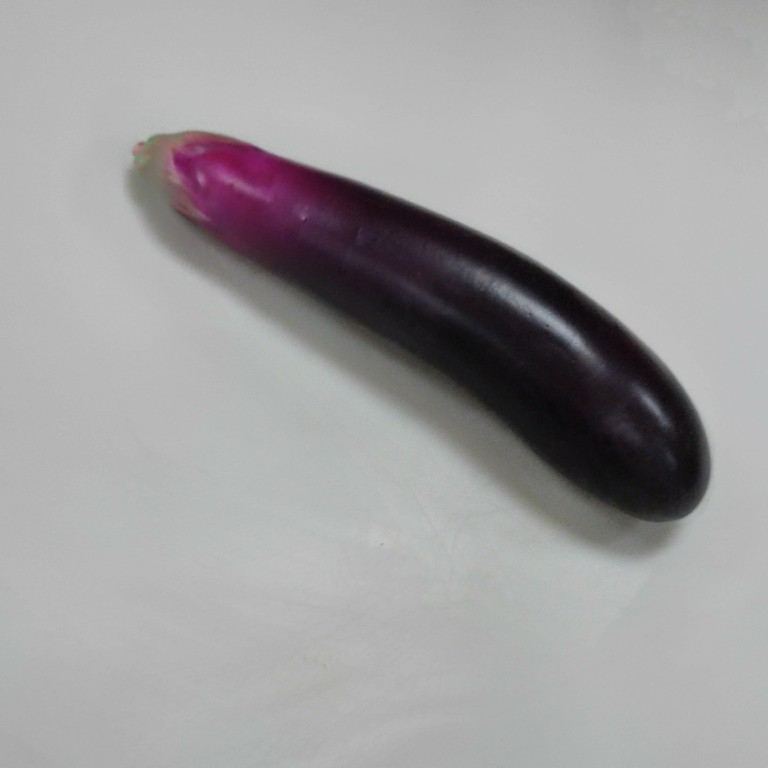fruit_eggplant: (129, 127, 716, 523)
